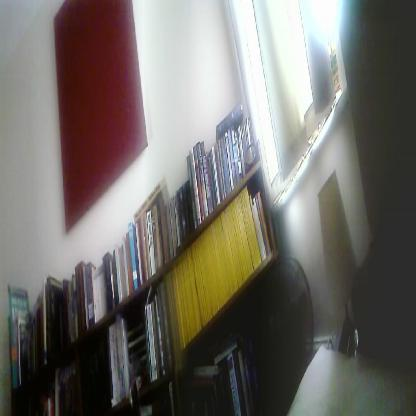book: (6, 107, 260, 414), (104, 187, 280, 415), (185, 316, 272, 416)
